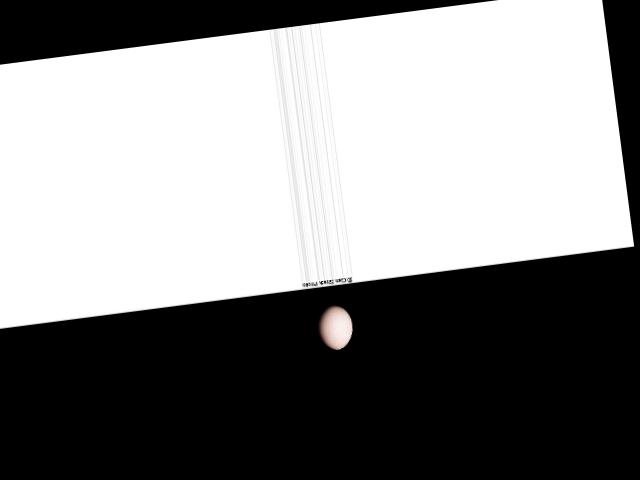egg: (314, 301, 354, 351)
